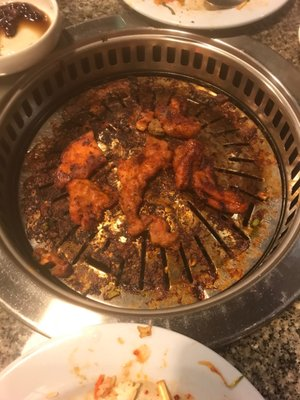sushi: (0, 27, 299, 355), (2, 322, 265, 400), (0, 0, 62, 78)
